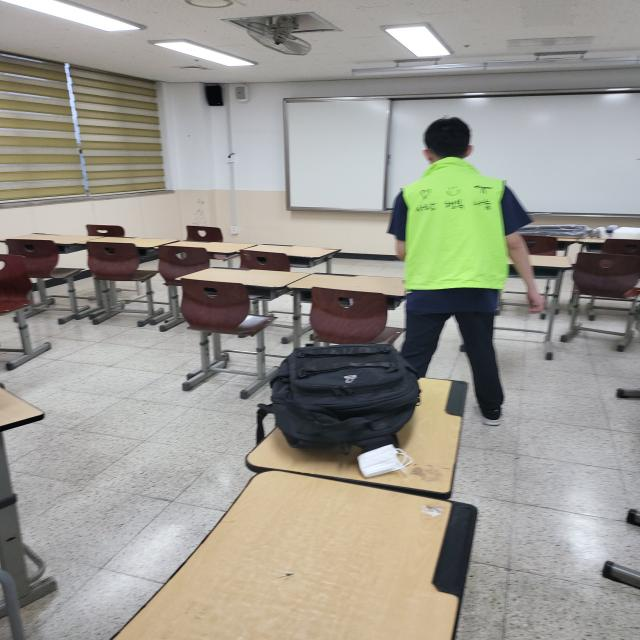weston_spy: (387, 159, 536, 300)
